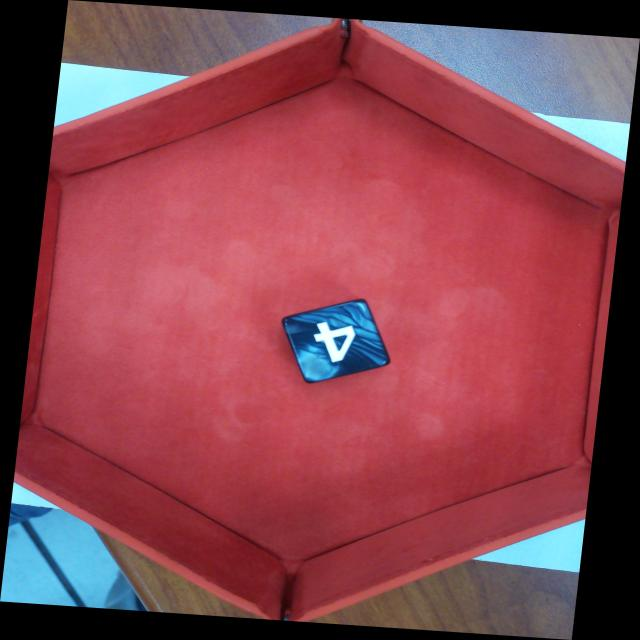dice: (278, 297, 394, 386)
